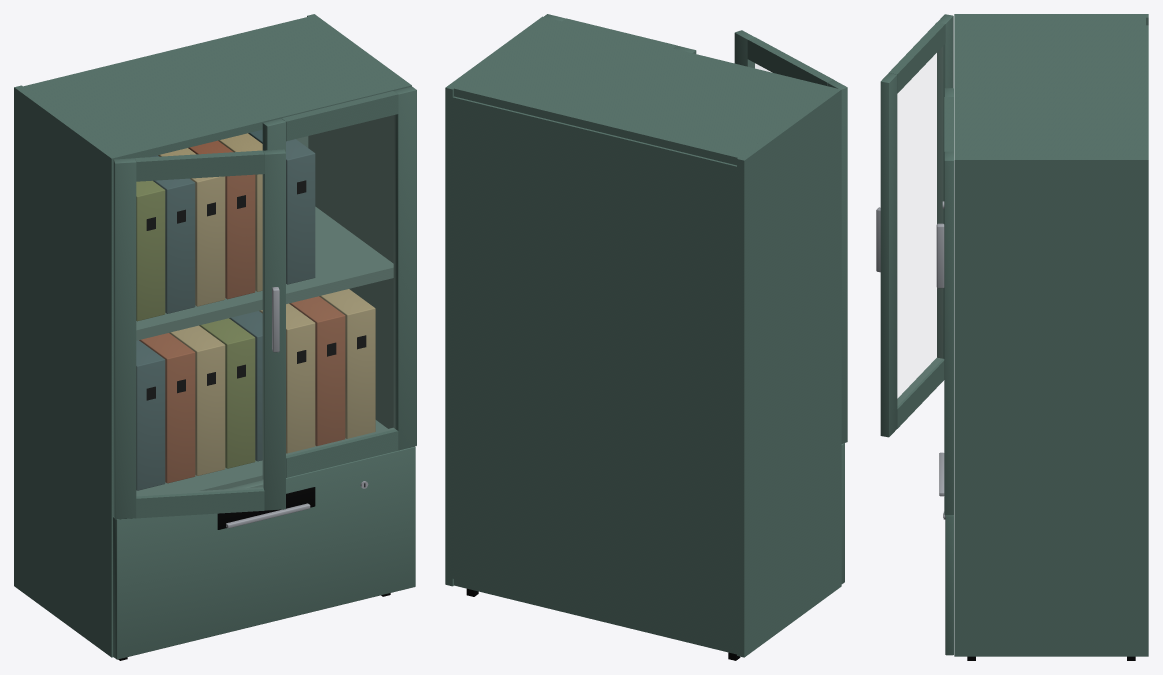
Rendered from retrieval_case.gltf.
3 views of the same model, side by side, from view 1: azimuth 30°, elevation 25°; view 2: azimuth 150°, elevation 25°; view 3: azimuth 270°, elevation 25° (orthographic).
Visible parts, largest first — view 1: Anthracite steel carcass - Powder-coated steel, anthracite, Suspension-file drawer (closed), Left lockable glass door, hinged, Lever-arch files (plain, no labels) - File, grey board, Right lockable glass door, hinged, Lever-arch files (plain, no labels) - File, blue board, Lever-arch files (plain, no labels) - File, red board, Lever-arch files (plain, no labels) - File, green board, Adjustable steel shelf - Powder-coated steel, anthracite, Lever-arch files (plain, no labels) - Black plastic / rubber; view 2: Anthracite steel carcass - Powder-coated steel, anthracite, Left lockable glass door, hinged, Right lockable glass door, hinged; view 3: Anthracite steel carcass - Powder-coated steel, anthracite, Left lockable glass door, hinged, Right lockable glass door, hinged, Suspension-file drawer (closed).
Part boxes in pixels (x1,y1,x2,y2): Anthracite steel carcass - Powder-coated steel, anthracite: (14, 14, 411, 657); Suspension-file drawer (closed): (113, 446, 415, 659); Left lockable glass door, hinged: (113, 149, 285, 519); Lever-arch files (plain, no labels) - File, grey board: (158, 133, 375, 475); Right lockable glass door, hinged: (262, 86, 416, 478); Lever-arch files (plain, no labels) - File, blue board: (136, 129, 315, 490); Lever-arch files (plain, no labels) - File, red board: (139, 140, 345, 483); Lever-arch files (plain, no labels) - File, green board: (136, 180, 255, 468); Adjustable steel shelf - Powder-coated steel, anthracite: (136, 206, 393, 340); Lever-arch files (plain, no labels) - Black plastic / rubber: (146, 180, 366, 400); Anthracite steel carcass - Powder-coated steel, anthracite: (445, 16, 841, 657); Left lockable glass door, hinged: (734, 30, 847, 443); Right lockable glass door, hinged: (544, 14, 696, 53); Anthracite steel carcass - Powder-coated steel, anthracite: (954, 14, 1148, 656); Left lockable glass door, hinged: (876, 14, 953, 437); Right lockable glass door, hinged: (936, 88, 953, 515); Suspension-file drawer (closed): (939, 452, 953, 655).
Bounding box in the file's own units: 0.8038 × 1.3 × 0.6308.
8 materials, 7 textured.
